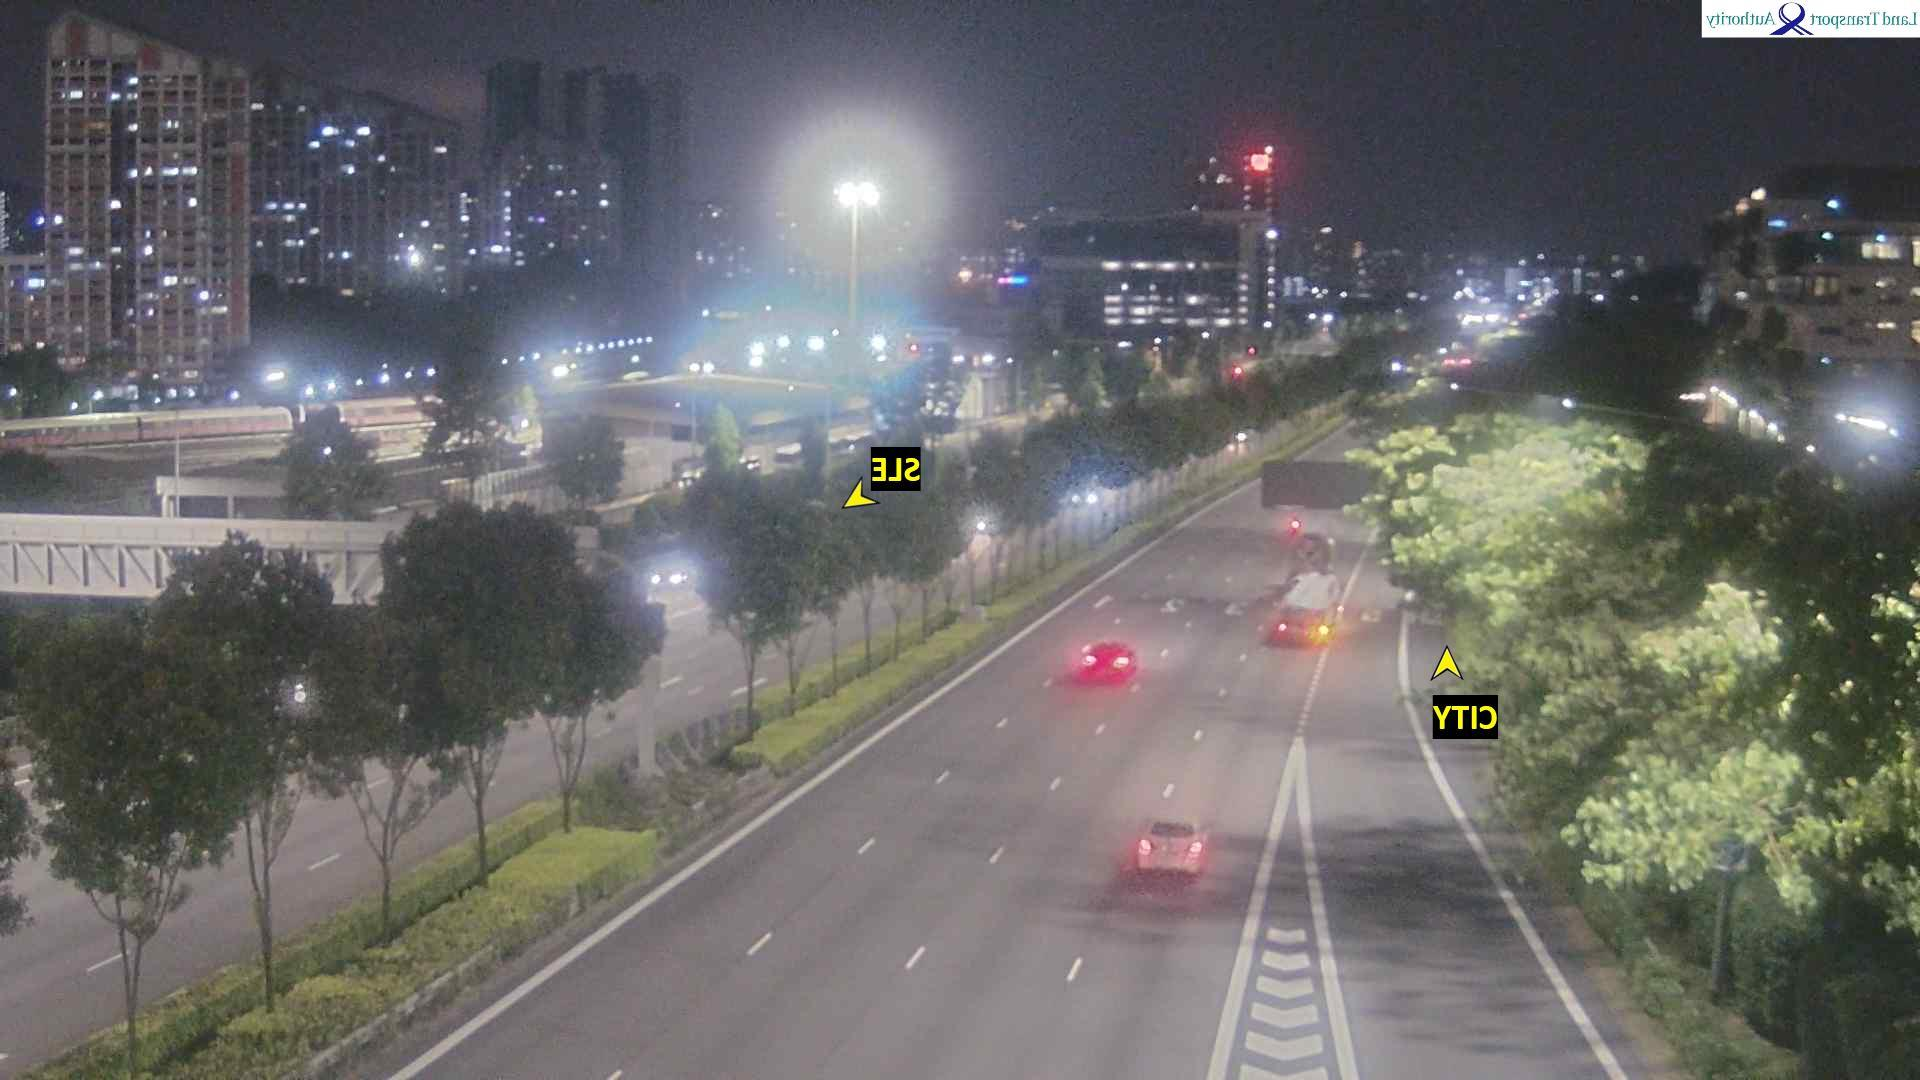cars: (1266, 570, 1345, 647), (1135, 818, 1209, 878), (1077, 638, 1139, 684), (645, 553, 700, 593), (1295, 529, 1338, 570), (1058, 481, 1104, 510), (1439, 348, 1474, 371)
motorcycle: (1283, 510, 1303, 541)
